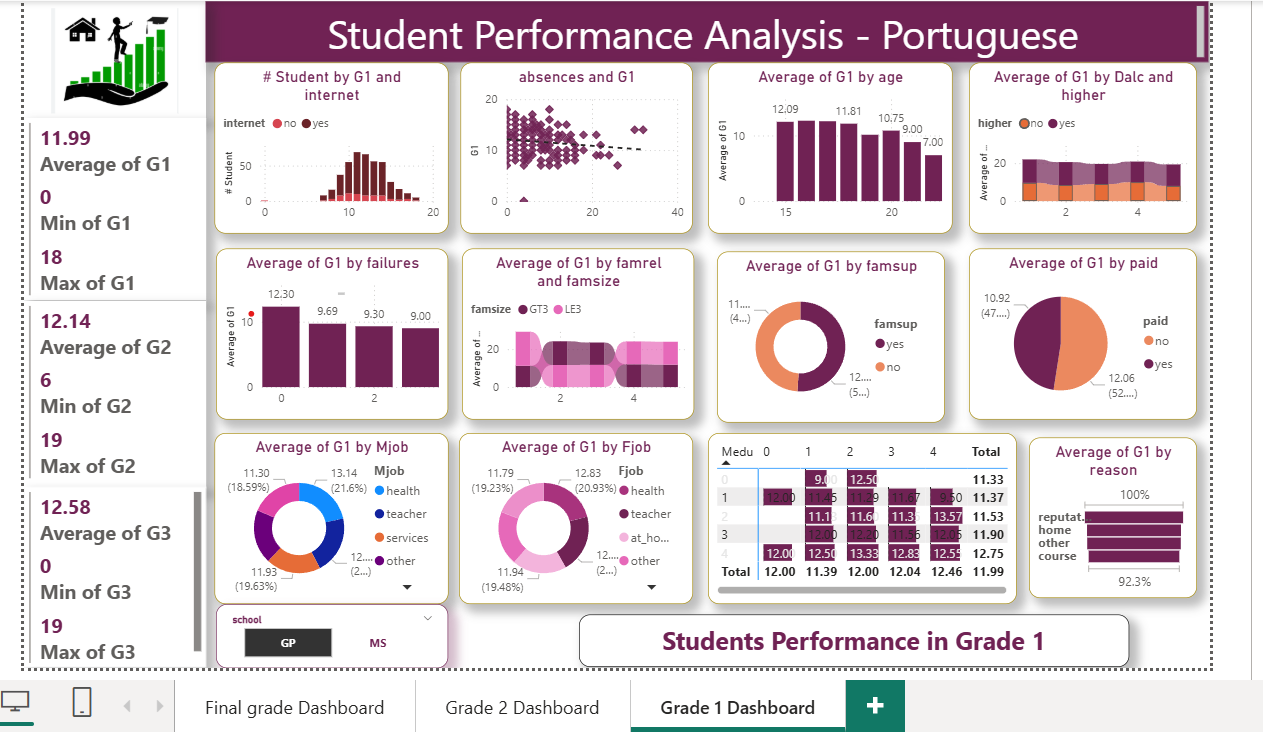

Layout of this report page (visuals, bound fields, positions):
{"tool":"powerbi","page":{"name":"Grade 1 Dashboard","canvas":[1280,720],"ordinal":2},"visuals":[{"type":"textbox","box":[196.5,0,1082.8,66.1],"z":0},{"type":"image","box":[0,0,196.5,126.6],"z":1000},{"type":"multiRowCard","fields":{"Values":["Avg(student-por.G1)1","Min(student-por.G1)","Max(student-por.G1)"]},"box":[0,126.6,196.5,196.5],"z":2000},{"type":"multiRowCard","fields":{"Values":["Avg(student-por.G2)","Min(student-por.G2)","Max(student-por.G2)"]},"box":[0,323.2,196.5,202.2],"z":3000},{"type":"multiRowCard","fields":{"Values":["Avg(student-por.G3)","Min(student-por.G3)","Max(student-por.G3)1"]},"box":[0,525.4,196.5,194.6],"z":4000},{"type":"columnChart","fields":{"Category":["student-por.G1"],"Y":["student-por.# Student"],"Series":["student-por.internet"]},"box":[205.6,66.4,252.6,184.6],"z":5000},{"type":"scatterChart","fields":{"X":["student-por.absences"],"Y":["student-por.G1"]},"box":[471.2,66.4,251,184.6],"z":6000},{"type":"columnChart","fields":{"Category":["student-por.age"],"Y":["Avg(student-por.G1)"]},"box":[738.4,66.4,263.9,184.6],"z":7000},{"type":"ribbonChart","fields":{"Category":["student-por.Dalc"],"Series":["student-por.higher"],"Y":["Avg(student-por.G1)"]},"box":[1020.1,66.4,246.1,184.6],"z":8000},{"type":"clusteredColumnChart","fields":{"Category":["student-por.failures"],"Y":["Avg(student-por.G1)"]},"box":[207.3,267.2,251,184.6],"z":9000},{"type":"ribbonChart","fields":{"Category":["student-por.famrel"],"Series":["student-por.famsize"],"Y":["Avg(student-por.G1)"]},"box":[472.8,267.2,251,184.6],"z":10000},{"type":"donutChart","fields":{"Category":["student-por.famsup"],"Y":["Avg(student-por.G1)"]},"box":[748.1,270.4,246.1,184.6],"z":11000},{"type":"pieChart","fields":{"Y":["Avg(student-por.G1)"],"Category":["student-por.paid"]},"box":[1020.1,267.2,246.1,184.6],"z":12000},{"type":"donutChart","fields":{"Y":["Avg(student-por.G1)"],"Category":["student-por.Mjob"]},"box":[205.6,466.3,252.6,184.6],"z":13000},{"type":"donutChart","fields":{"Y":["Avg(student-por.G1)"],"Category":["student-por.Fjob"]},"box":[469.6,466.3,252.6,184.6],"z":14000},{"type":"pivotTable","fields":{"Rows":["student-por.Medu"],"Columns":["student-por.Fedu"],"Values":["Avg(student-por.G1)"]},"box":[738.4,466.3,333.6,184.6],"z":15000},{"type":"funnel","fields":{"Category":["student-por.reason"],"Y":["Avg(student-por.G1)"]},"box":[1084.9,471.2,181.4,173.3],"z":16000},{"type":"slicer","fields":{"Values":["student-por.school"]},"box":[207.3,650.9,251,69.6],"z":17000},{"type":"textbox","box":[333.6,309.3,17.8,13],"z":18000},{"type":"textbox","box":[599.1,662.3,594.3,56.7],"z":19000}]}

Visuals, with their boxes on the page's 1280x720 design canvas (x1, y1, x2, y2). These are canvas units, not pixel positions in the 1263x732 screenshot, which may show the page scaled, cropped or inside an application window:
textbox: 196/0/1279/66
image: 0/0/196/127
multiRowCard - Avg(student-por.G1)1 x Min(student-por.G1): 0/127/196/323
multiRowCard - Avg(student-por.G2) x Min(student-por.G2): 0/323/196/525
multiRowCard - Avg(student-por.G3) x Min(student-por.G3): 0/525/196/720
columnChart - student-por.G1 x student-por.# Student: 206/66/458/251
scatterChart - student-por.absences x student-por.G1: 471/66/722/251
columnChart - student-por.age x Avg(student-por.G1): 738/66/1002/251
ribbonChart - student-por.Dalc x student-por.higher: 1020/66/1266/251
clusteredColumnChart - student-por.failures x Avg(student-por.G1): 207/267/458/452
ribbonChart - student-por.famrel x student-por.famsize: 473/267/724/452
donutChart - student-por.famsup x Avg(student-por.G1): 748/270/994/455
pieChart - Avg(student-por.G1) x student-por.paid: 1020/267/1266/452
donutChart - Avg(student-por.G1) x student-por.Mjob: 206/466/458/651
donutChart - Avg(student-por.G1) x student-por.Fjob: 470/466/722/651
pivotTable - student-por.Medu x student-por.Fedu: 738/466/1072/651
funnel - student-por.reason x Avg(student-por.G1): 1085/471/1266/644
slicer - student-por.school: 207/651/458/720
textbox: 334/309/351/322
textbox: 599/662/1193/719
